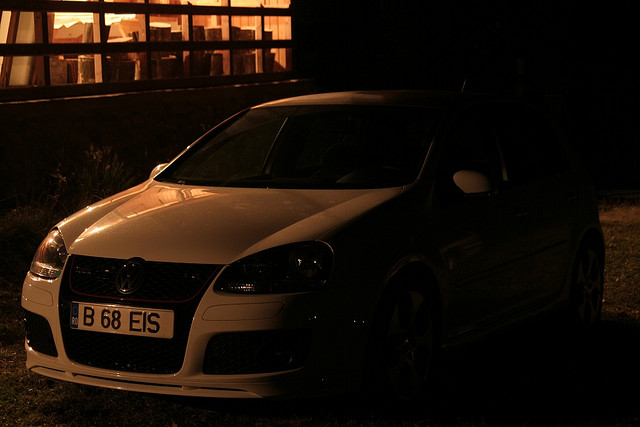car: (16, 69, 615, 414)
